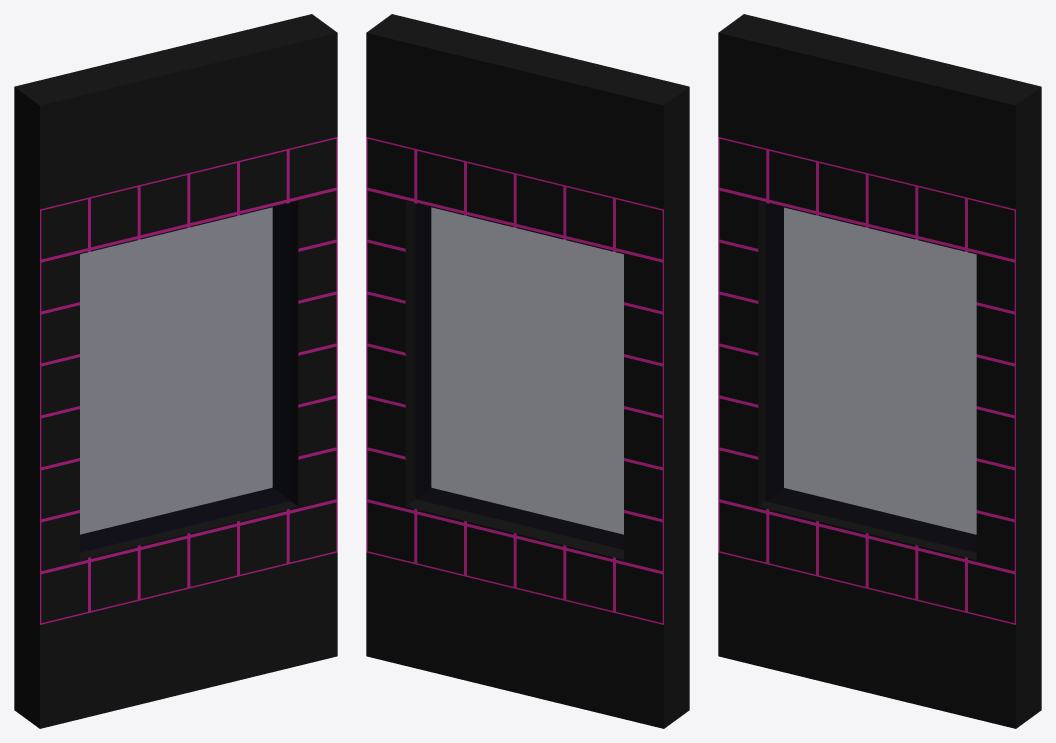
Rendered from LEDGridWindow.glb.
3 views of the same model, side by side, from view 1: azimuth 30°, elevation 25°; view 2: azimuth 150°, elevation 25°; view 3: azimuth 330°, elevation 25° (orthographic).
Visible parts, largest first — view 1: wall_LEDgrid_window; view 2: wall_LEDgrid_window; view 3: wall_LEDgrid_window.
Part boxes in pixels (box(x1,y1,x2,y2)): wall_LEDgrid_window: box(14, 14, 337, 728); wall_LEDgrid_window: box(366, 14, 689, 728); wall_LEDgrid_window: box(718, 14, 1041, 728).
Size of what is drawn, in the model's own units: 2 by 4 by 0.3.
Materials: 3 (3 with a texture image).
